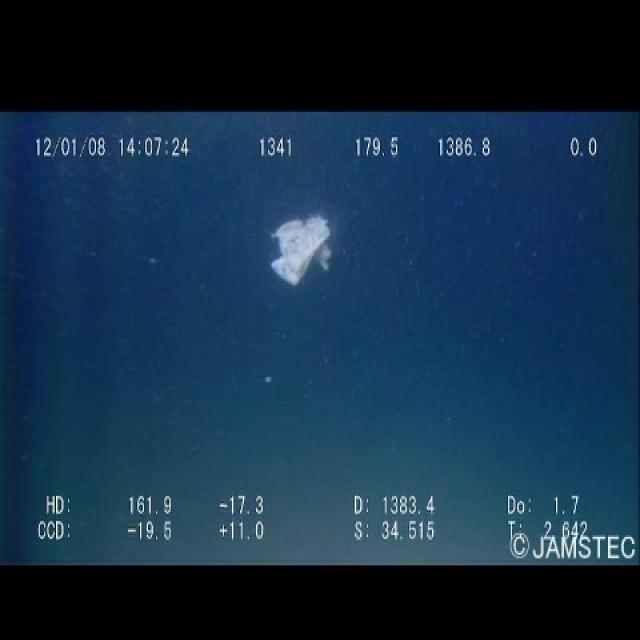plastic: (263, 210, 340, 290)
